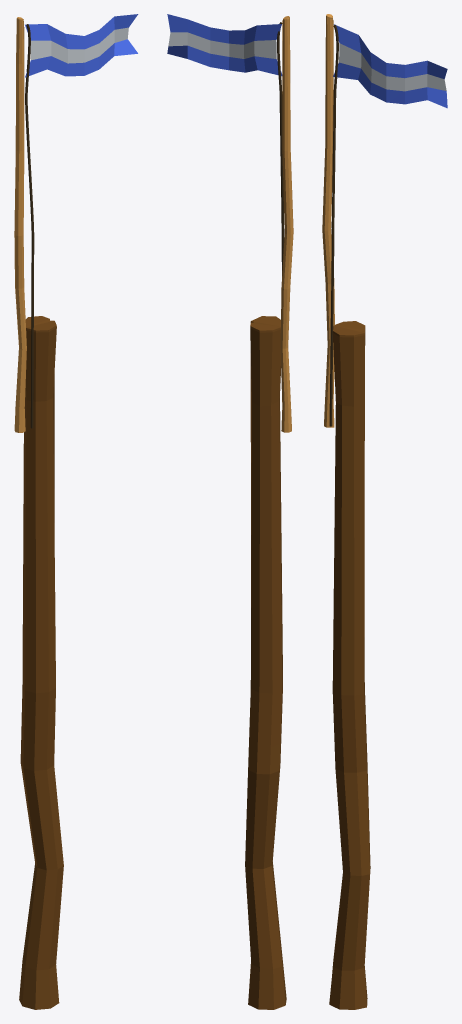
File: Beach_House_Flag_Pole_01.fbx
3 renders of one model, left to right at view 1: azimuth 30°, elevation 25°; view 2: azimuth 150°, elevation 25°; view 3: azimuth 330°, elevation 25°, orthographic.
Parts seen in each view (by area): view 1: Beach_House_Flag_Pole_01; view 2: Beach_House_Flag_Pole_01; view 3: Beach_House_Flag_Pole_01.
Boxes of the visible parts, box(x1,y1,x2,y2) form: Beach_House_Flag_Pole_01: box(14, 14, 138, 1009); Beach_House_Flag_Pole_01: box(167, 14, 293, 1009); Beach_House_Flag_Pole_01: box(322, 14, 447, 1009).
Bounding box in the file's own units: 2.85 × 21.6 × 0.8365.
